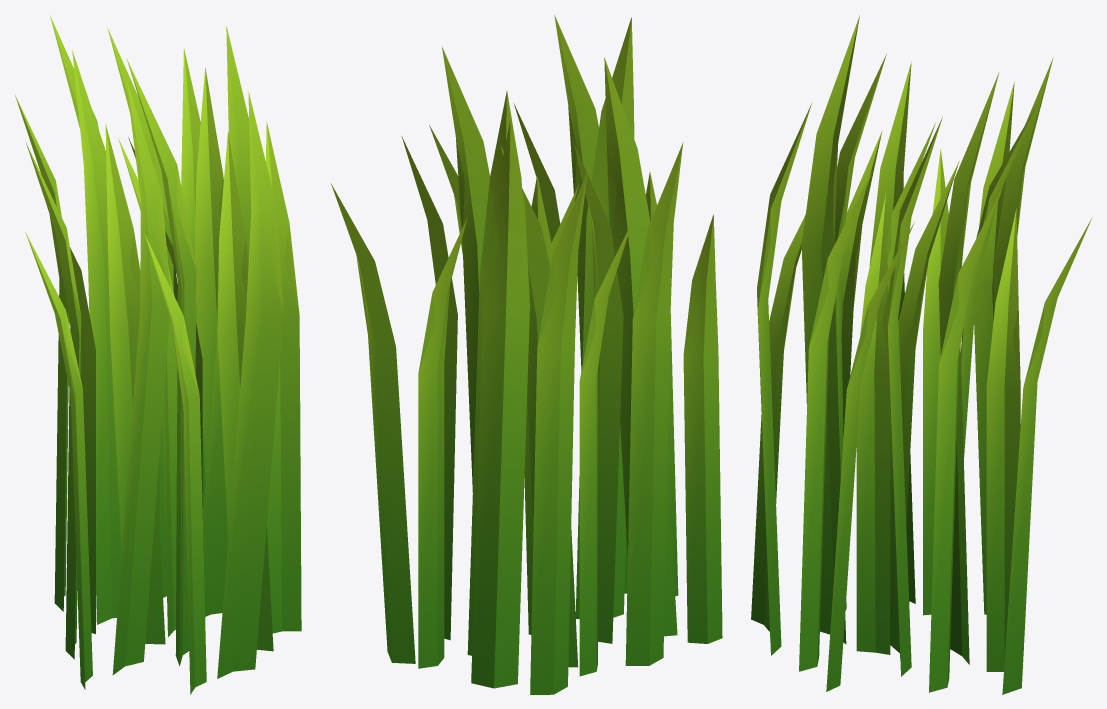
File: Reed.fbx
3 views of the same model, side by side, from view 1: azimuth 30°, elevation 25°; view 2: azimuth 150°, elevation 25°; view 3: azimuth 270°, elevation 25° (orthographic). The views are drawn at different scales.
Parts seen in each view (by area): view 1: pPlane97; view 2: pPlane97; view 3: pPlane97.
Part boxes in pixels (box(x1,y1,x2,y2)): pPlane97: box(15, 15, 301, 694); pPlane97: box(331, 15, 722, 694); pPlane97: box(751, 15, 1092, 694).
Size of the model in its own units: 0.9898 by 2.15 by 1.11.
Materials: 1 (1 with a texture image).
